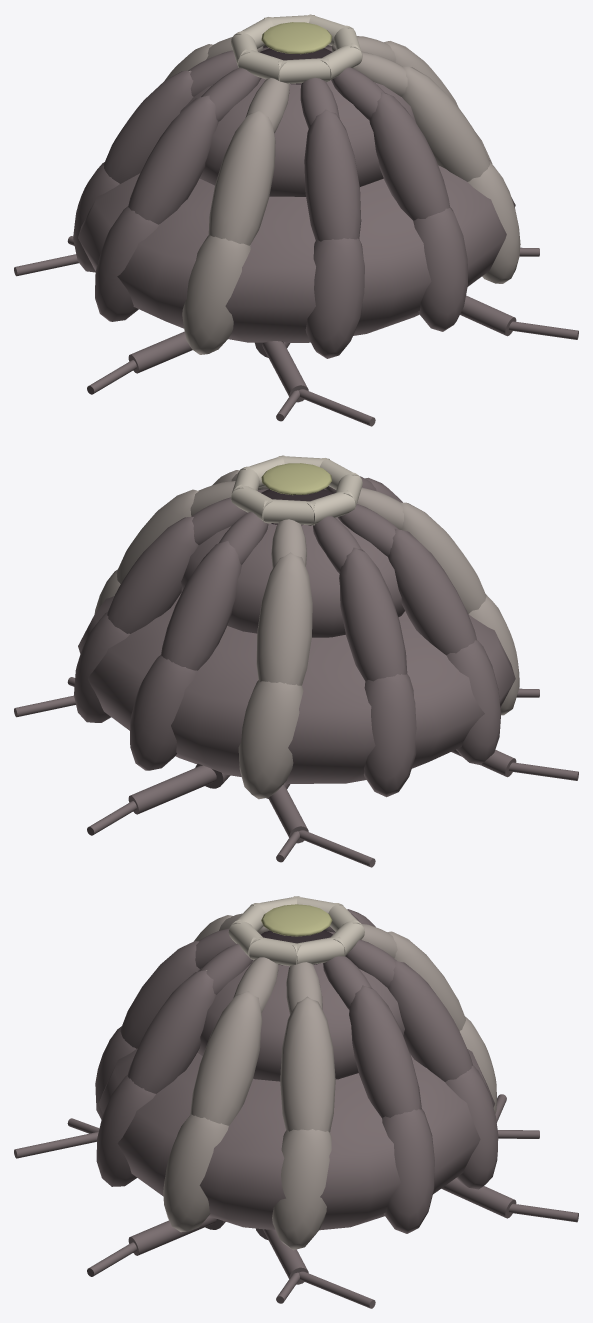
Rendered from CMU3DHiveCMU14PathogenSporecaster.glb.
The picture shows the model from 3 angles, top to bottom: view 1: azimuth 30°, elevation 25°; view 2: azimuth 150°, elevation 25°; view 3: azimuth 270°, elevation 25°; orthographic projection.
Parts seen in each view (by area): view 1: radial sporecaster cap lobe (×21), flattened fungal skirt, fleshy vent neck, sinuous anchoring root (×7), rolled organic lip (×3), luminous spore vent; view 2: radial sporecaster cap lobe (×20), flattened fungal skirt, fleshy vent neck, sinuous anchoring root (×7), rolled organic lip (×3), luminous spore vent; view 3: radial sporecaster cap lobe (×21), flattened fungal skirt, fleshy vent neck, sinuous anchoring root (×7), rolled organic lip (×4), luminous spore vent.
Part boxes in pixels (<box>): radial sporecaster cap lobe (×21): <box>73,36,520,358</box>; flattened fungal skirt: <box>78,160,515,342</box>; fleshy vent neck: <box>180,47,415,196</box>; sinuous anchoring root (×7): <box>14,254,578,426</box>; rolled organic lip (×3): <box>238,43,362,83</box>; luminous spore vent: <box>261,22,332,54</box>; radial sporecaster cap lobe (×20): <box>74,481,519,799</box>; flattened fungal skirt: <box>78,593,515,783</box>; fleshy vent neck: <box>181,488,404,637</box>; sinuous anchoring root (×7): <box>14,695,578,867</box>; rolled organic lip (×3): <box>231,484,355,525</box>; luminous spore vent: <box>261,463,331,495</box>; radial sporecaster cap lobe (×21): <box>95,923,498,1250</box>; flattened fungal skirt: <box>98,1048,494,1230</box>; fleshy vent neck: <box>197,931,404,1081</box>; sinuous anchoring root (×7): <box>14,1132,578,1308</box>; rolled organic lip (×4): <box>228,919,364,966</box>; luminous spore vent: <box>261,904,332,936</box>.
Bounding box in the file's own units: 1.43 × 0.7682 × 1.42.
